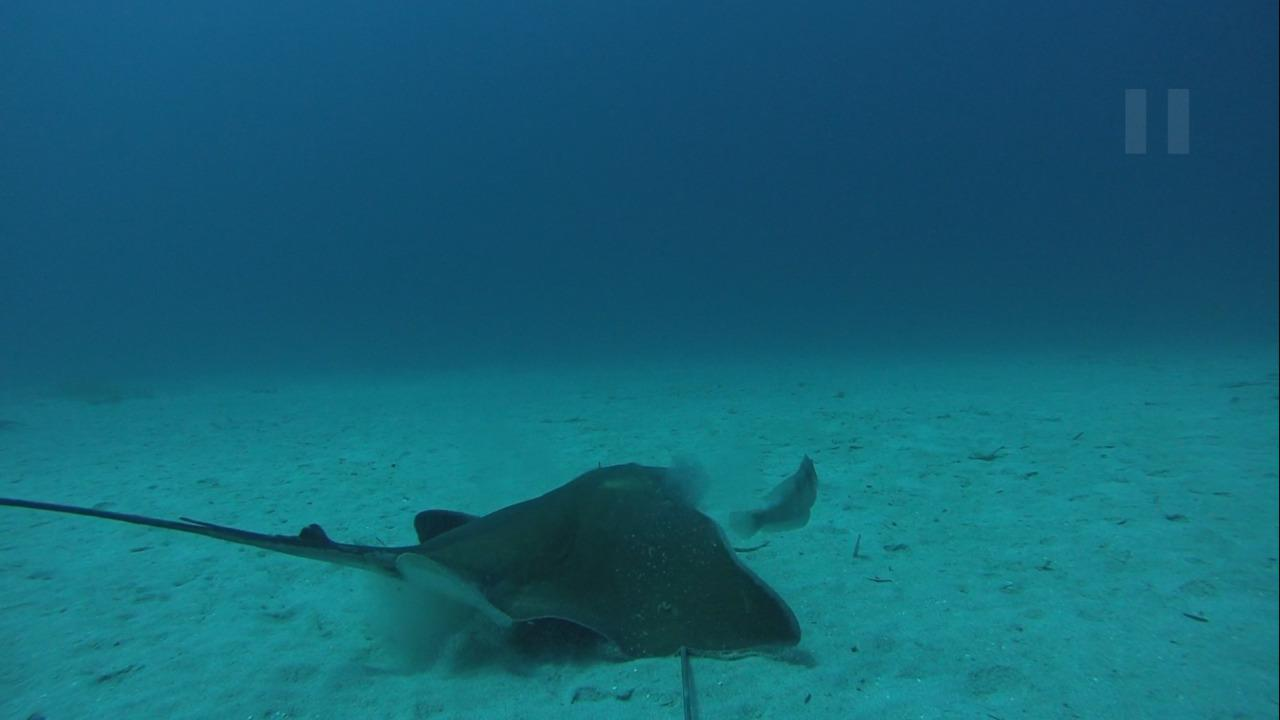myliobatis: (3, 456, 808, 663)
raor: (725, 456, 826, 546)
